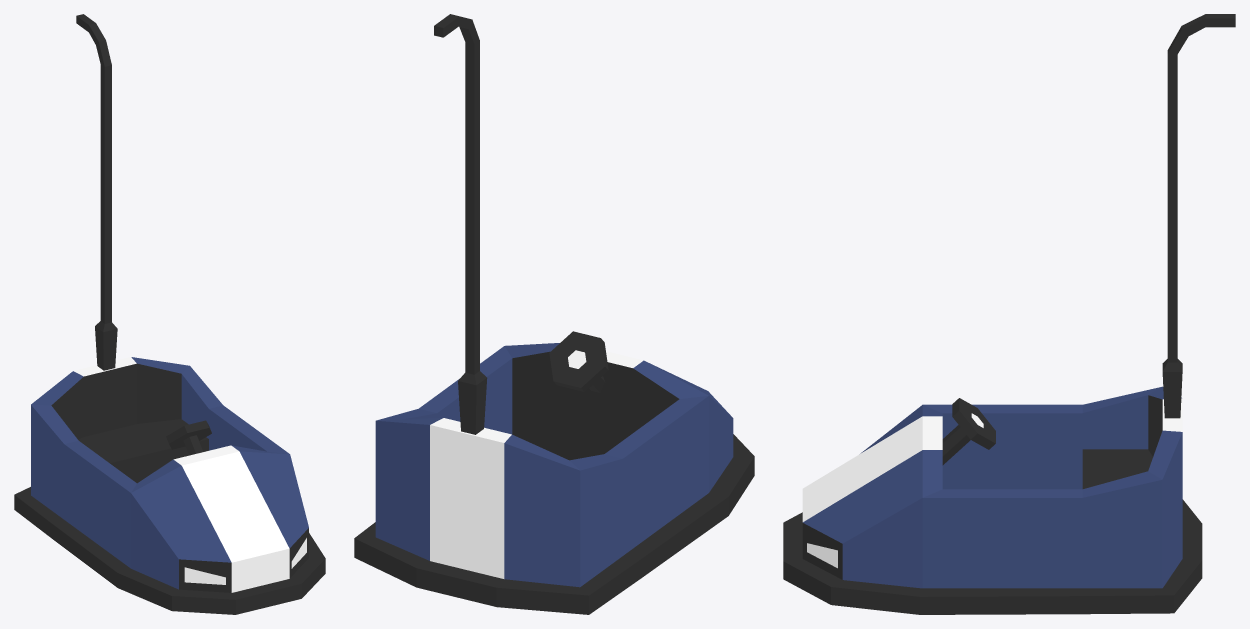
File: bumper-car_blue.glb
The picture shows the model from 3 angles, left to right: view 1: azimuth 30°, elevation 25°; view 2: azimuth 150°, elevation 25°; view 3: azimuth 270°, elevation 25°; orthographic projection. The views are drawn at different scales.
Visible parts, largest first — view 1: bumper-car_blue; view 2: bumper-car_blue; view 3: bumper-car_blue.
Part boxes in pixels (box(x1,y1,x2,y2)): bumper-car_blue: box(14, 14, 325, 614); bumper-car_blue: box(354, 14, 754, 614); bumper-car_blue: box(783, 14, 1235, 614).
Size of the model in its own units: 1.3 by 3 by 2.26.
Materials: 1 (1 with a texture image).
